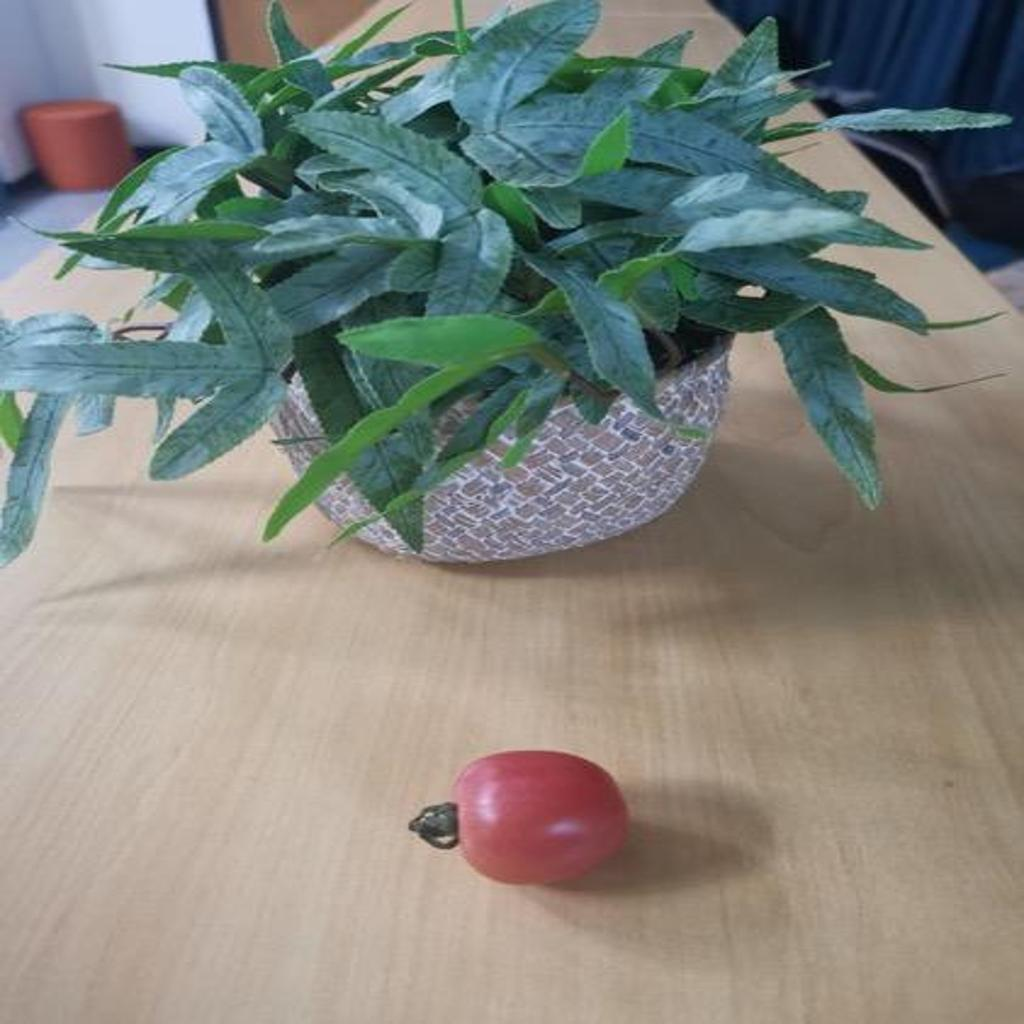tomato: (431, 733, 634, 912)
